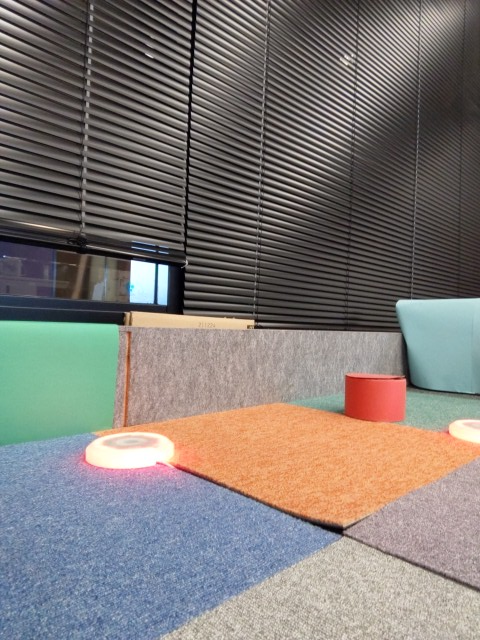r: (81, 424, 178, 472), (445, 412, 480, 446)
